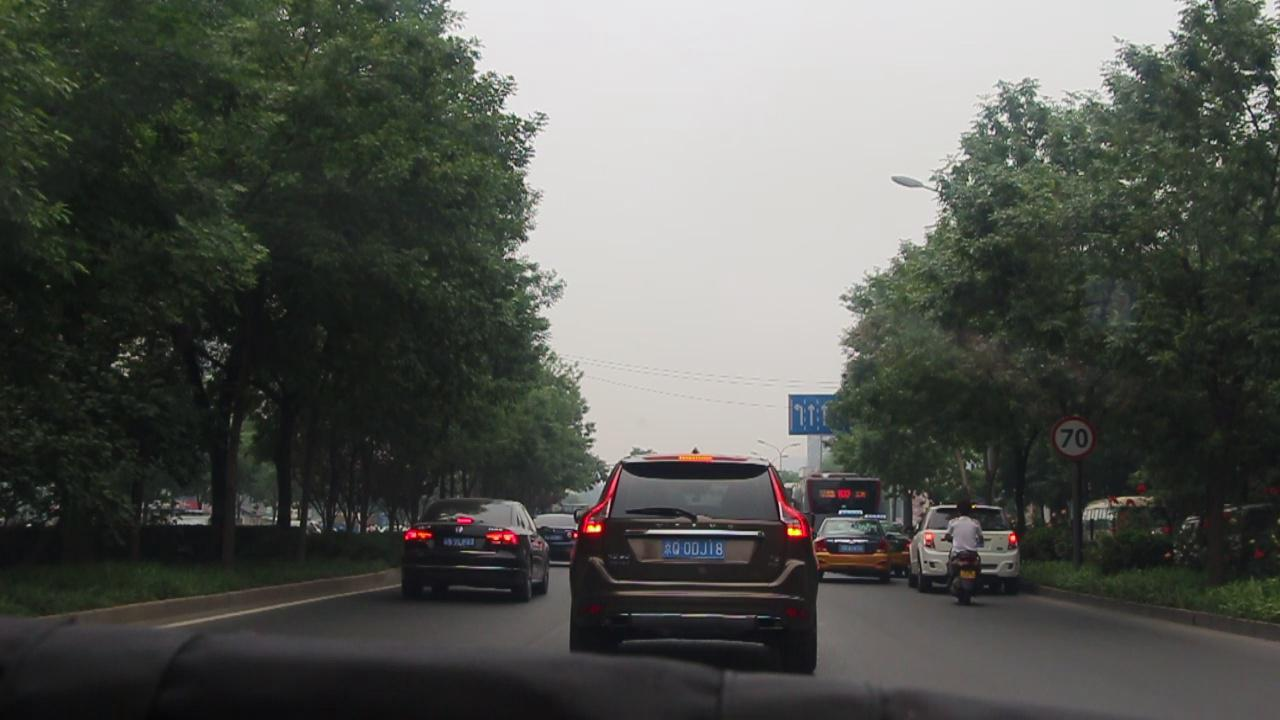Prohibitory Signs: (1049, 413, 1100, 464)
